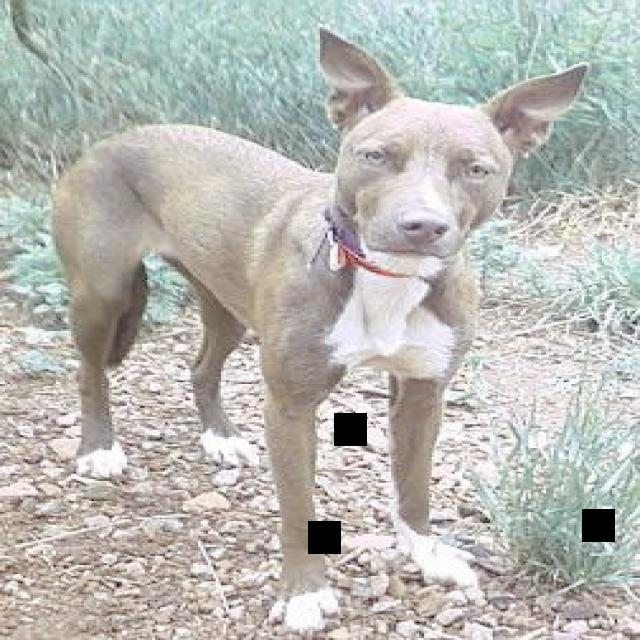adult_dog: (46, 24, 594, 634)
